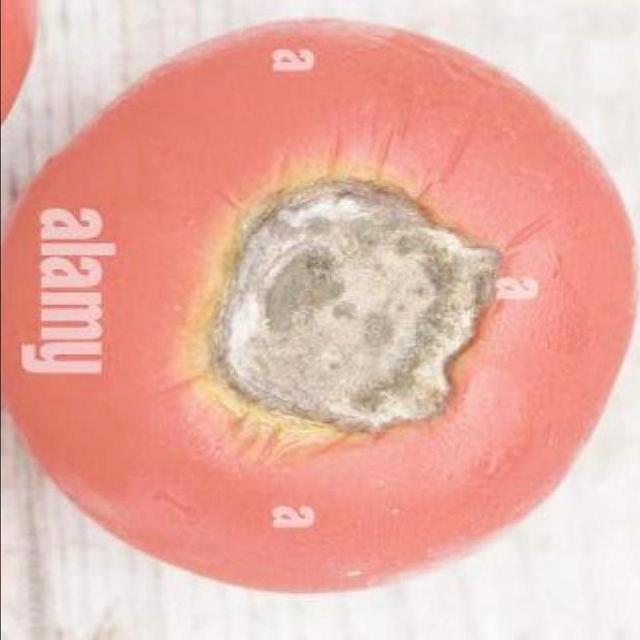Blossom End Rot Fruit: (138, 110, 340, 296)
